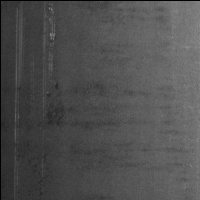scratches: (12, 4, 27, 136), (40, 4, 58, 78)
